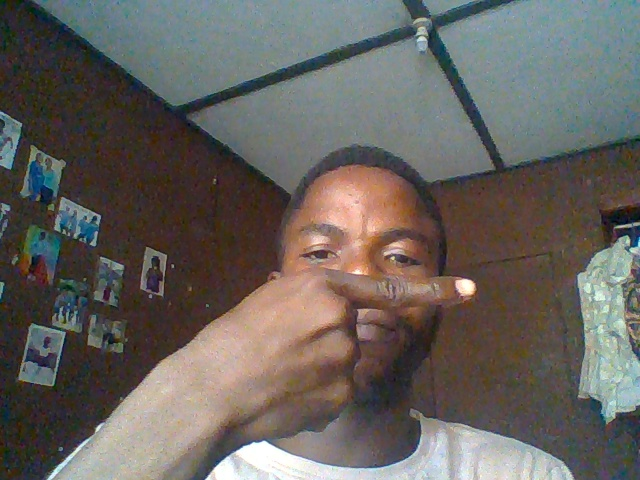Left: (211, 272, 489, 429)
